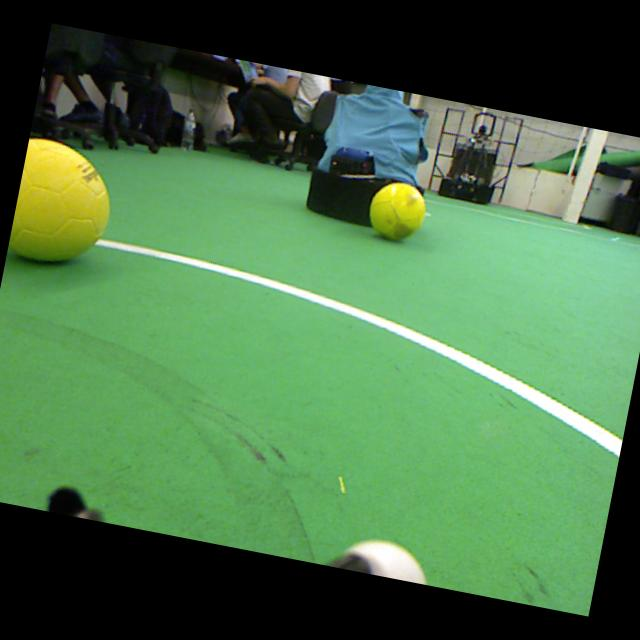ball: (8, 138, 111, 261), (369, 183, 425, 241)
goal: (563, 129, 609, 224)
robot: (438, 113, 497, 205)
